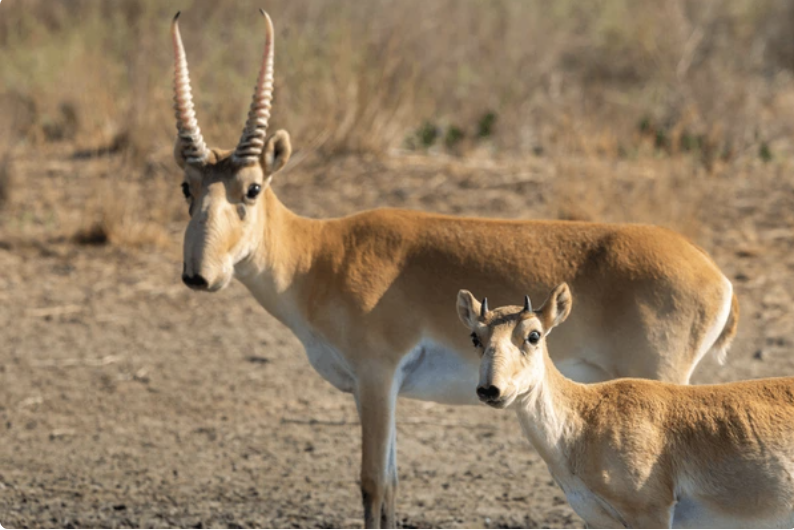saiga: (167, 8, 736, 519)
